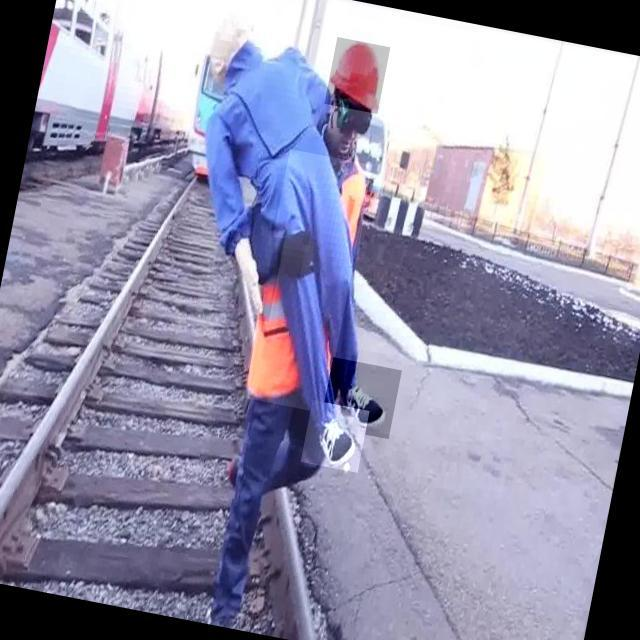Gloves: (279, 214, 331, 287)
Helmet: (325, 37, 391, 114)
Person: (181, 22, 425, 636)
Safety Vest: (242, 150, 372, 414)
